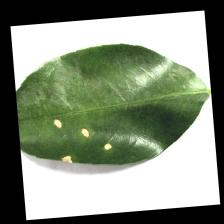canker: (44, 115, 138, 179)
